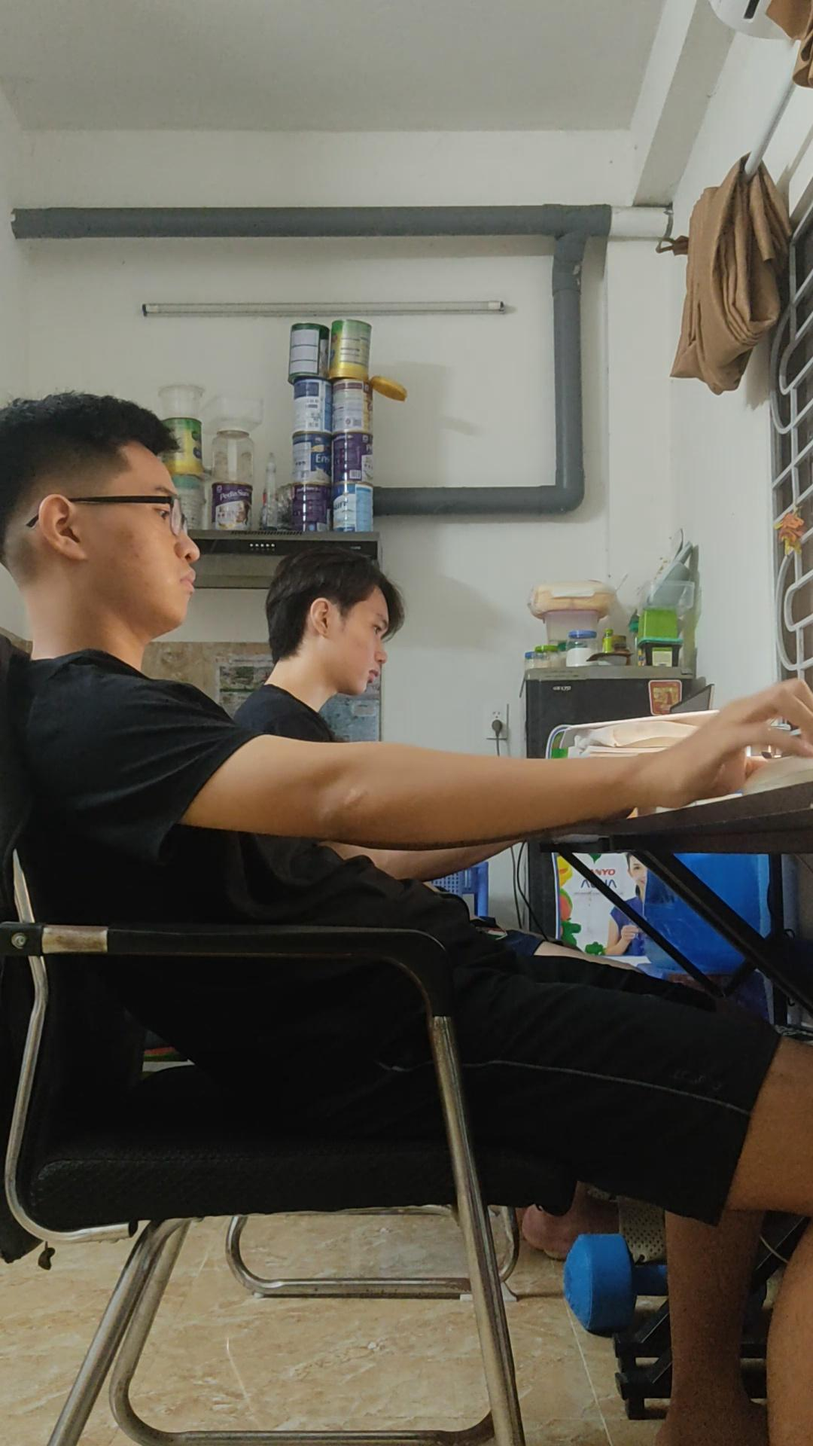BadPosture: (0, 395, 812, 1445)
